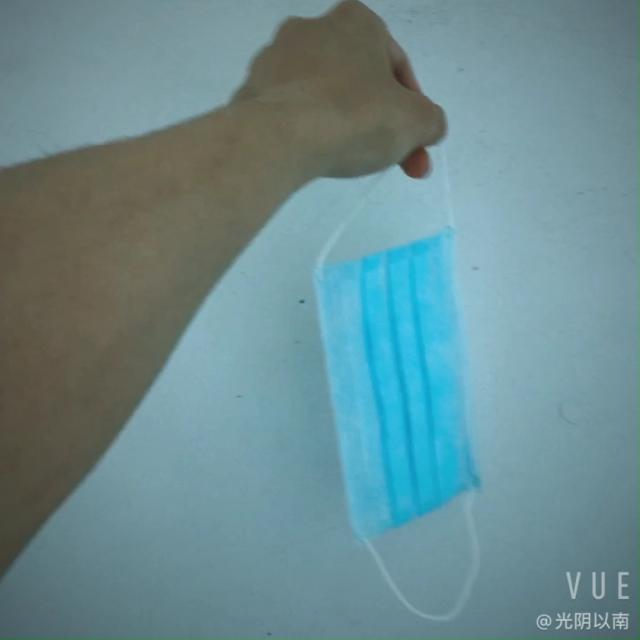non-organic waste: (311, 224, 487, 546)
